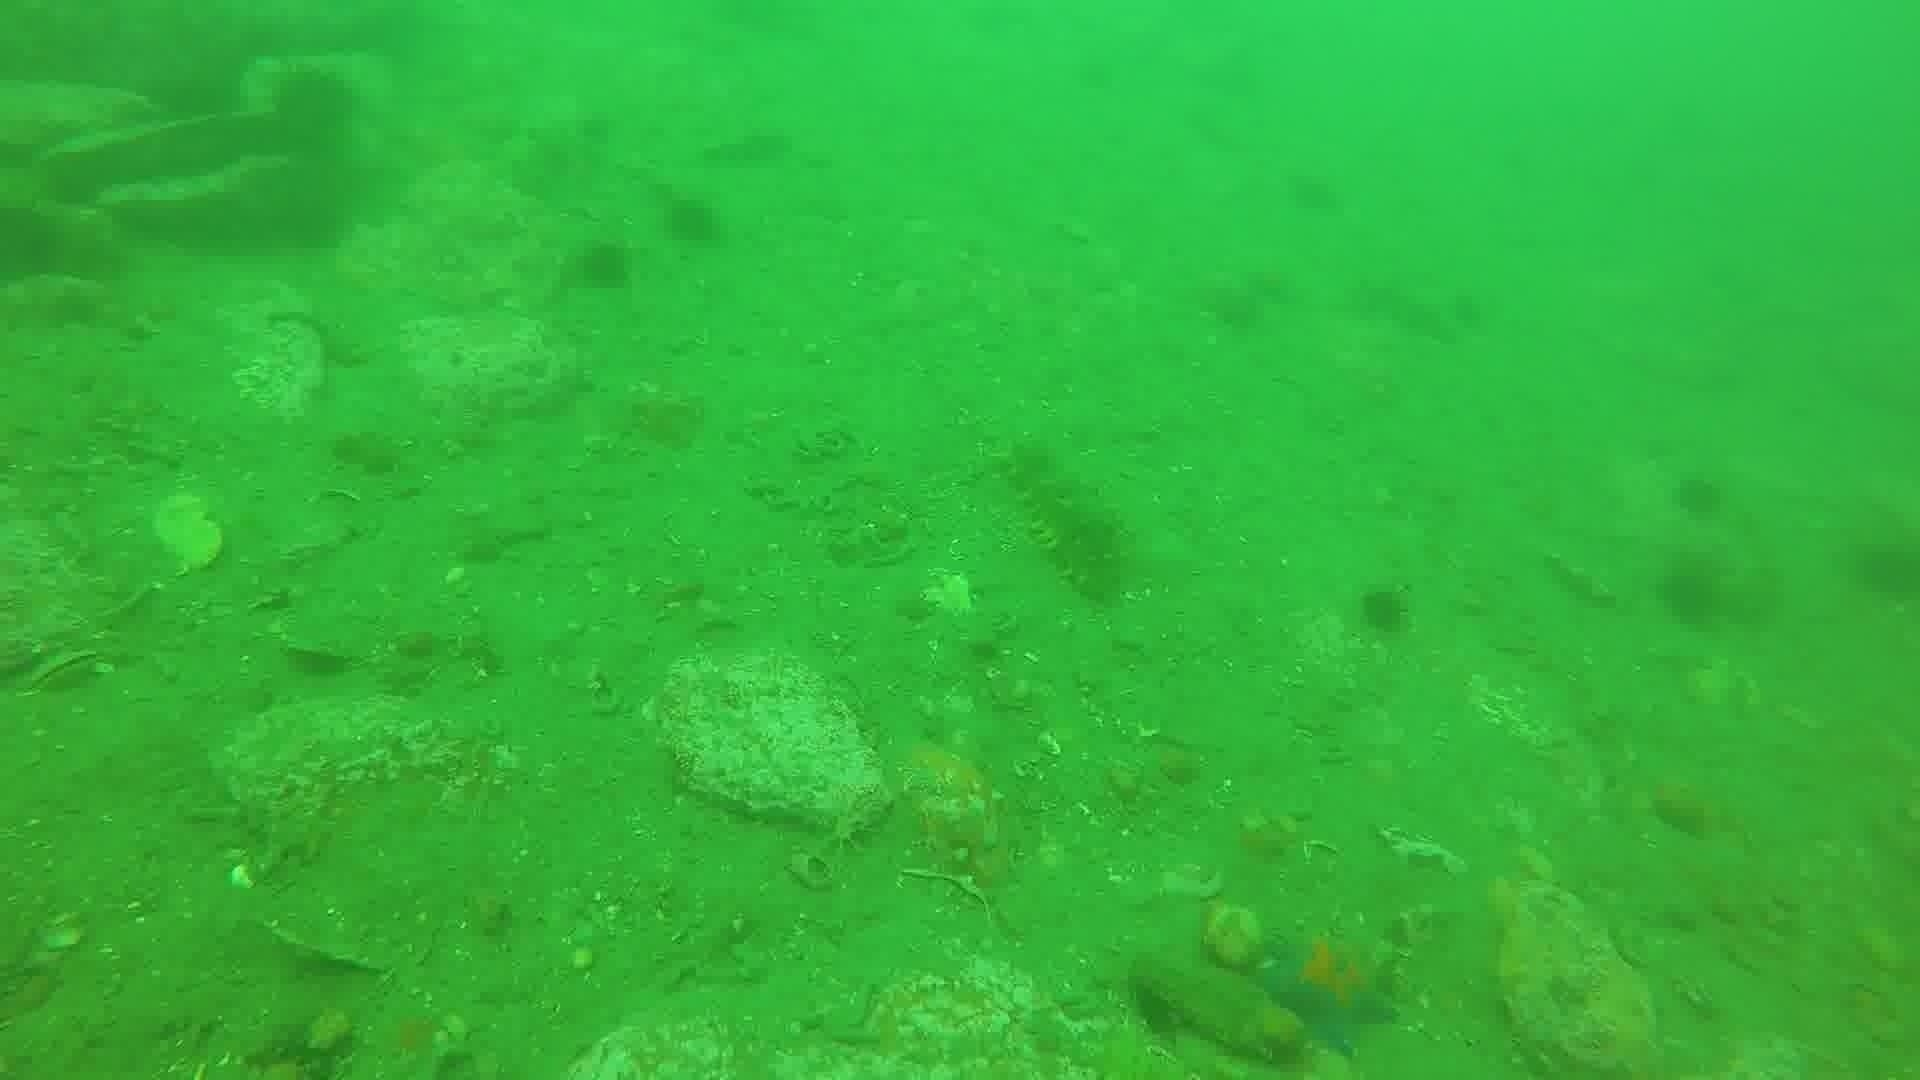echinus: (264, 63, 363, 153), (1847, 527, 1920, 609), (1654, 558, 1727, 633), (1350, 579, 1418, 642), (568, 235, 638, 295), (658, 191, 727, 251), (1668, 468, 1730, 524)
holothurian: (998, 436, 1133, 607), (1346, 268, 1481, 345)
starfish: (1254, 924, 1404, 1052)
